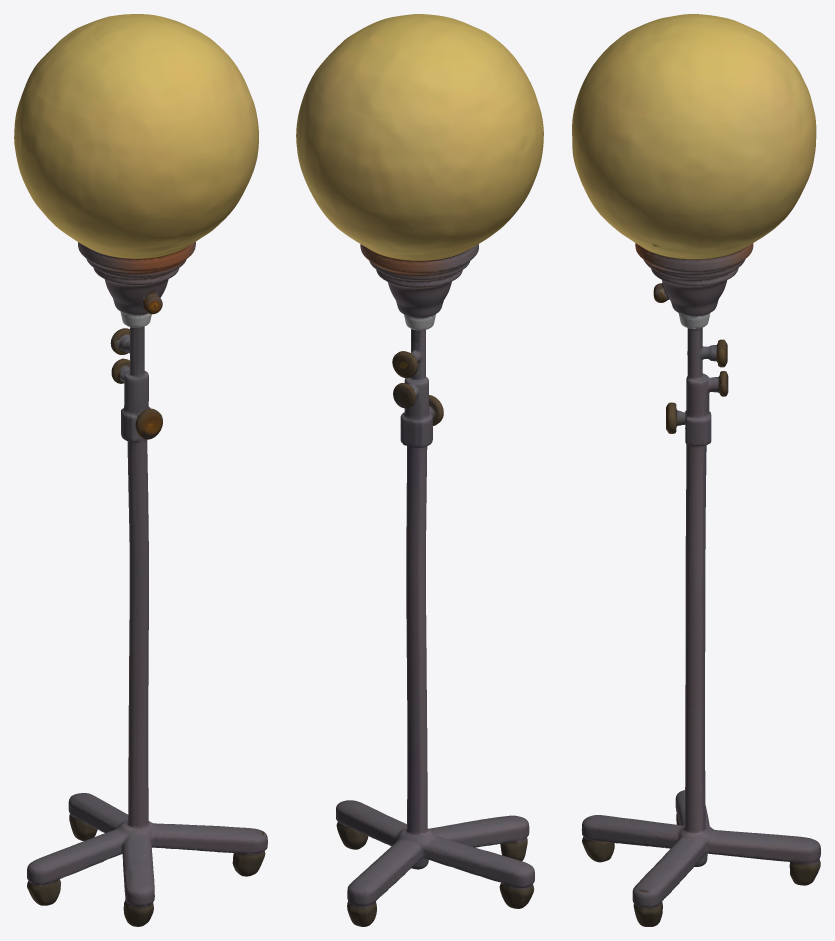
Rendered from lantern-globe.glb.
3 renders of one model, left to right at view 1: azimuth 30°, elevation 25°; view 2: azimuth 150°, elevation 25°; view 3: azimuth 270°, elevation 25°, orthographic.
Visible parts, largest first — view 1: tripo_node_df51984d-d4bc-4b18-a7e0-264569a86b7e; view 2: tripo_node_df51984d-d4bc-4b18-a7e0-264569a86b7e; view 3: tripo_node_df51984d-d4bc-4b18-a7e0-264569a86b7e.
Boxes of the visible parts, box(x1,y1,x2,y2) form: tripo_node_df51984d-d4bc-4b18-a7e0-264569a86b7e: box(14, 14, 267, 926); tripo_node_df51984d-d4bc-4b18-a7e0-264569a86b7e: box(296, 14, 543, 926); tripo_node_df51984d-d4bc-4b18-a7e0-264569a86b7e: box(572, 14, 820, 926).
Size of the model in its own units: 0.2643 by 1 by 0.2635.
1 material, 1 textured.
